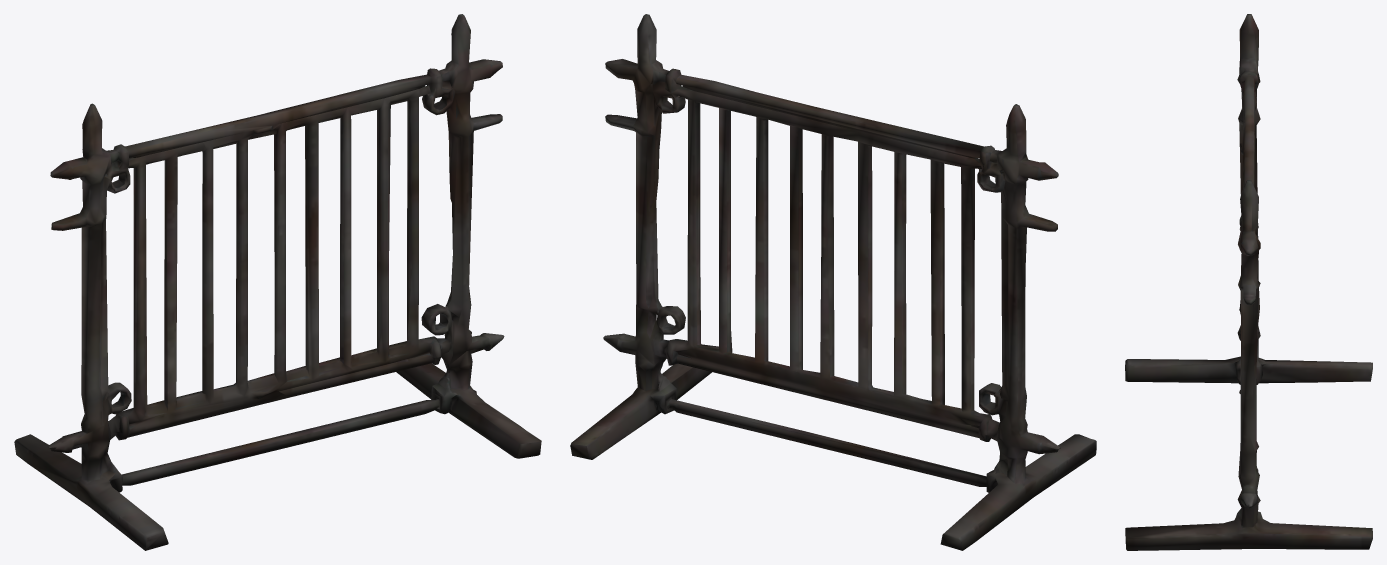
File: sturdy-iron-portcullis-v002.glb
3 views of the same model, side by side, from view 1: azimuth 30°, elevation 25°; view 2: azimuth 150°, elevation 25°; view 3: azimuth 270°, elevation 25° (orthographic). The views are drawn at different scales.
Visible parts, largest first — view 1: sturdy-iron-portcullis; view 2: sturdy-iron-portcullis; view 3: sturdy-iron-portcullis.
Part boxes in pixels (x1,y1,x2,y2): sturdy-iron-portcullis: [14, 14, 541, 550]; sturdy-iron-portcullis: [570, 14, 1096, 550]; sturdy-iron-portcullis: [1125, 14, 1372, 550].
Bounding box in the file's own units: 3.78 × 3.13 × 1.93.
Materials: 1 (1 with a texture image).
